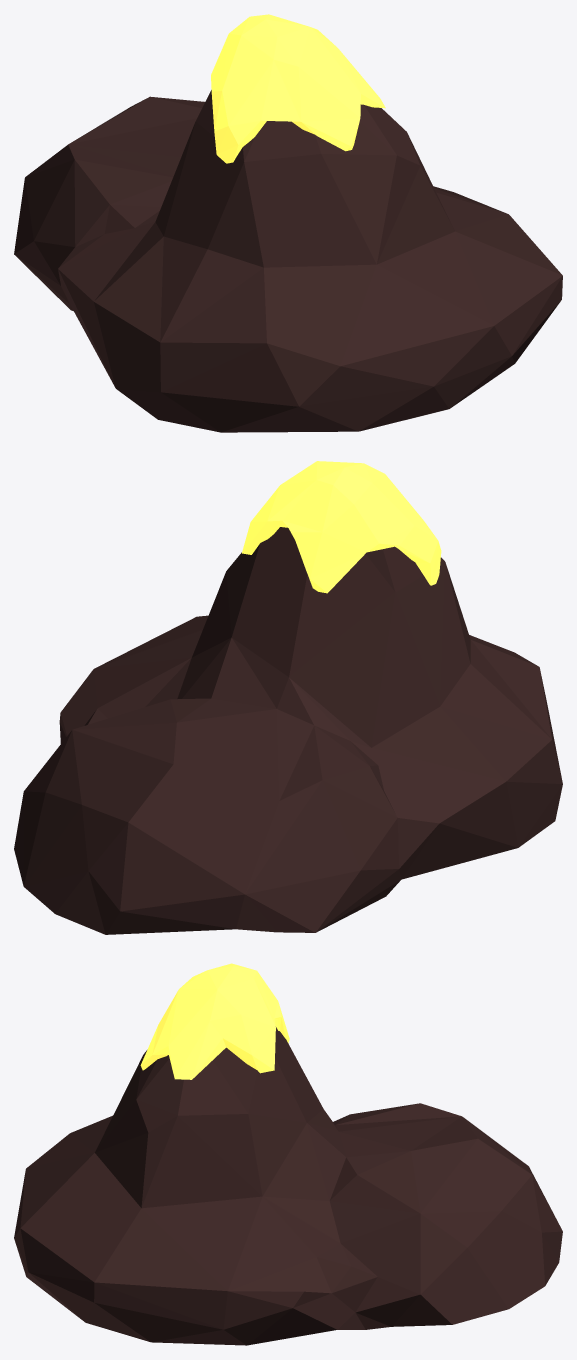
File: NIO--valcanoRock2.fbx
3 views of the same model, one above another, from view 1: azimuth 30°, elevation 25°; view 2: azimuth 150°, elevation 25°; view 3: azimuth 270°, elevation 25° (orthographic). The views are drawn at different scales.
Visible parts, largest first — view 1: Cube.001; view 2: Cube.001; view 3: Cube.001.
Part boxes in pixels (left/top/right/bottom): Cube.001: left=14, top=14, right=562, bottom=432; Cube.001: left=14, top=461, right=562, bottom=934; Cube.001: left=14, top=963, right=562, bottom=1345.
Size of the model in its own units: 182 by 151 by 244.
